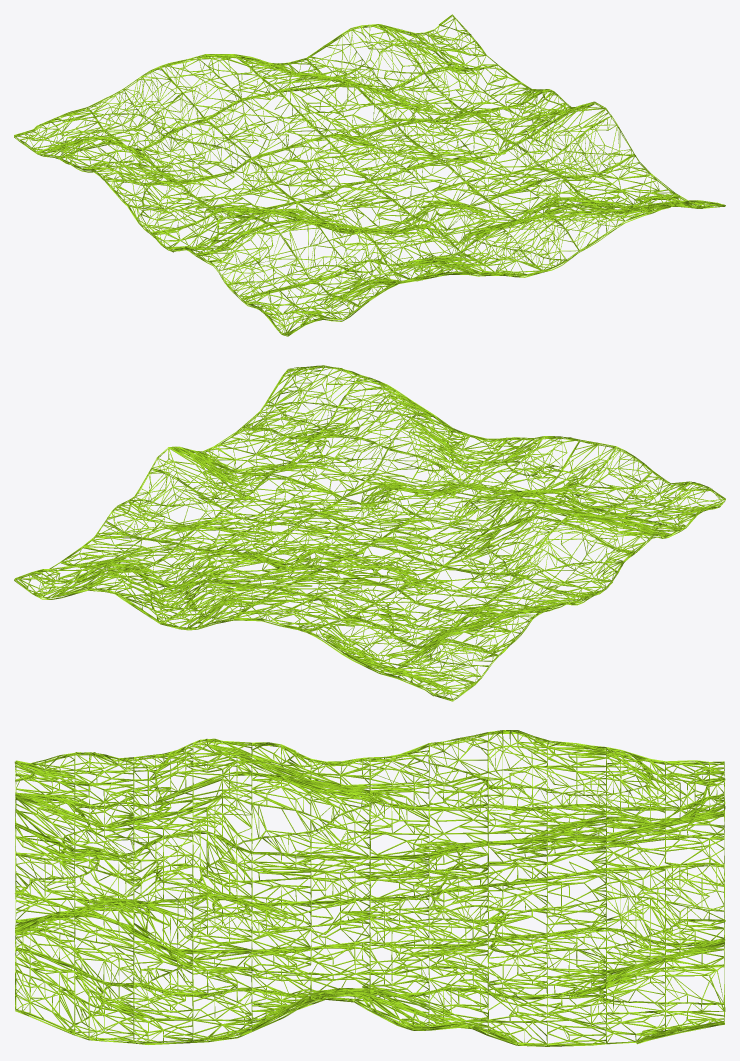
The model's file is vale_do_cafe_old.glb.
3 views of the same model, one above another, from view 1: azimuth 30°, elevation 25°; view 2: azimuth 150°, elevation 25°; view 3: azimuth 270°, elevation 25° (orthographic). The views are drawn at different scales.
Visible parts, largest first — view 1: 03724040515151475_0; view 2: 03724040515151475_0; view 3: 03724040515151475_0.
Part boxes in pixels (x1,y1,x2,y2): 03724040515151475_0: (14,14,725,336); 03724040515151475_0: (14,365,725,701); 03724040515151475_0: (14,730,725,1046).
Size of the model in its own units: 854 by 82.01 by 921.
